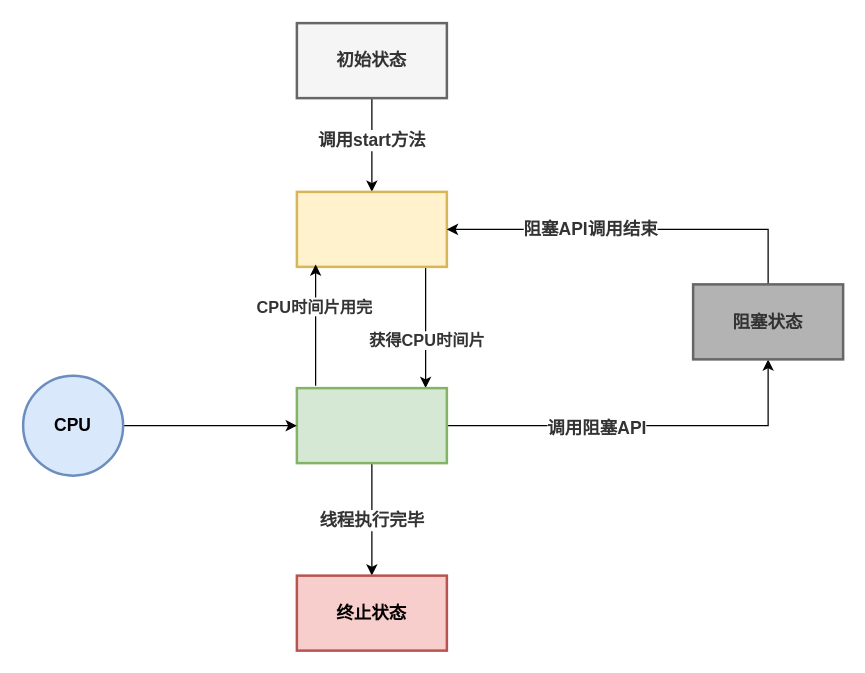
Image size: 865x673. Some labels were removed from this diagram. The shapes that lost their labels are listed below. From the top down, each one's centre as x and y in pixels, then its label:
(371,229): 就绪状态
(371,425): 运行状态
